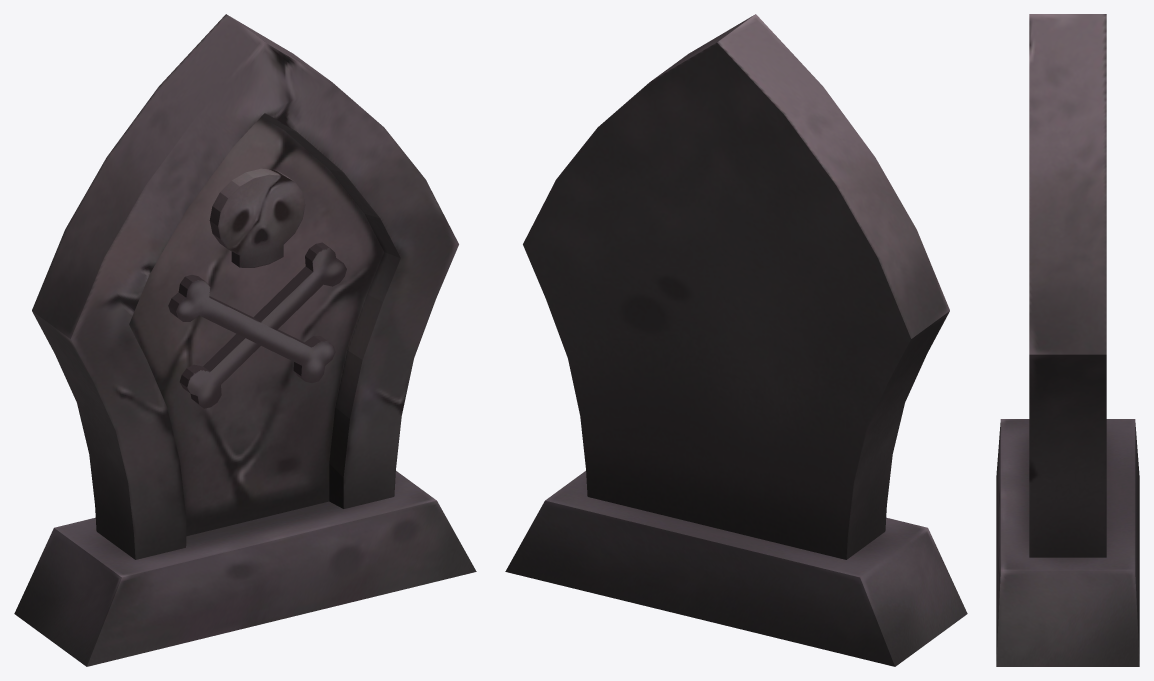
File: gravestoneD.fbx
3 views of the same model, side by side, from view 1: azimuth 30°, elevation 25°; view 2: azimuth 150°, elevation 25°; view 3: azimuth 270°, elevation 25° (orthographic).
Visible parts, largest first — view 1: gravestone_004; view 2: gravestone_004; view 3: gravestone_004.
Part boxes in pixels (left/top/right/bottom): gravestone_004: left=14, top=14, right=476, bottom=666; gravestone_004: left=505, top=14, right=967, bottom=666; gravestone_004: left=996, top=14, right=1139, bottom=666.
Size of the model in its own units: 136 by 188 by 43.68.
